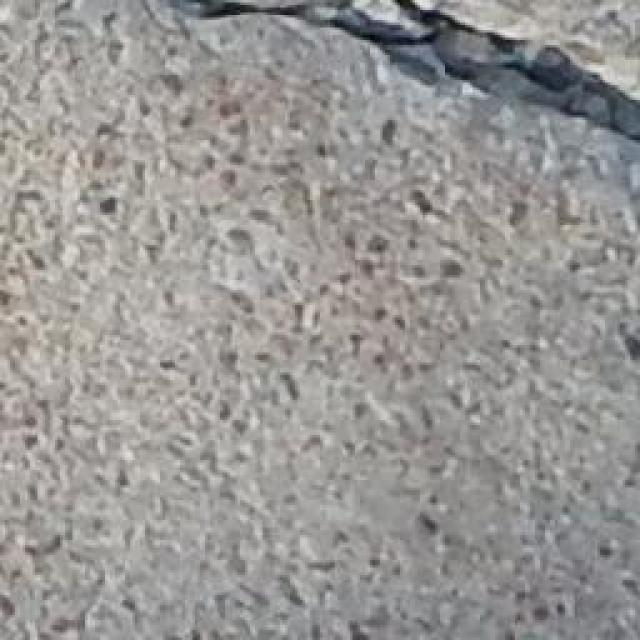concrete-crack: (172, 0, 640, 159)
